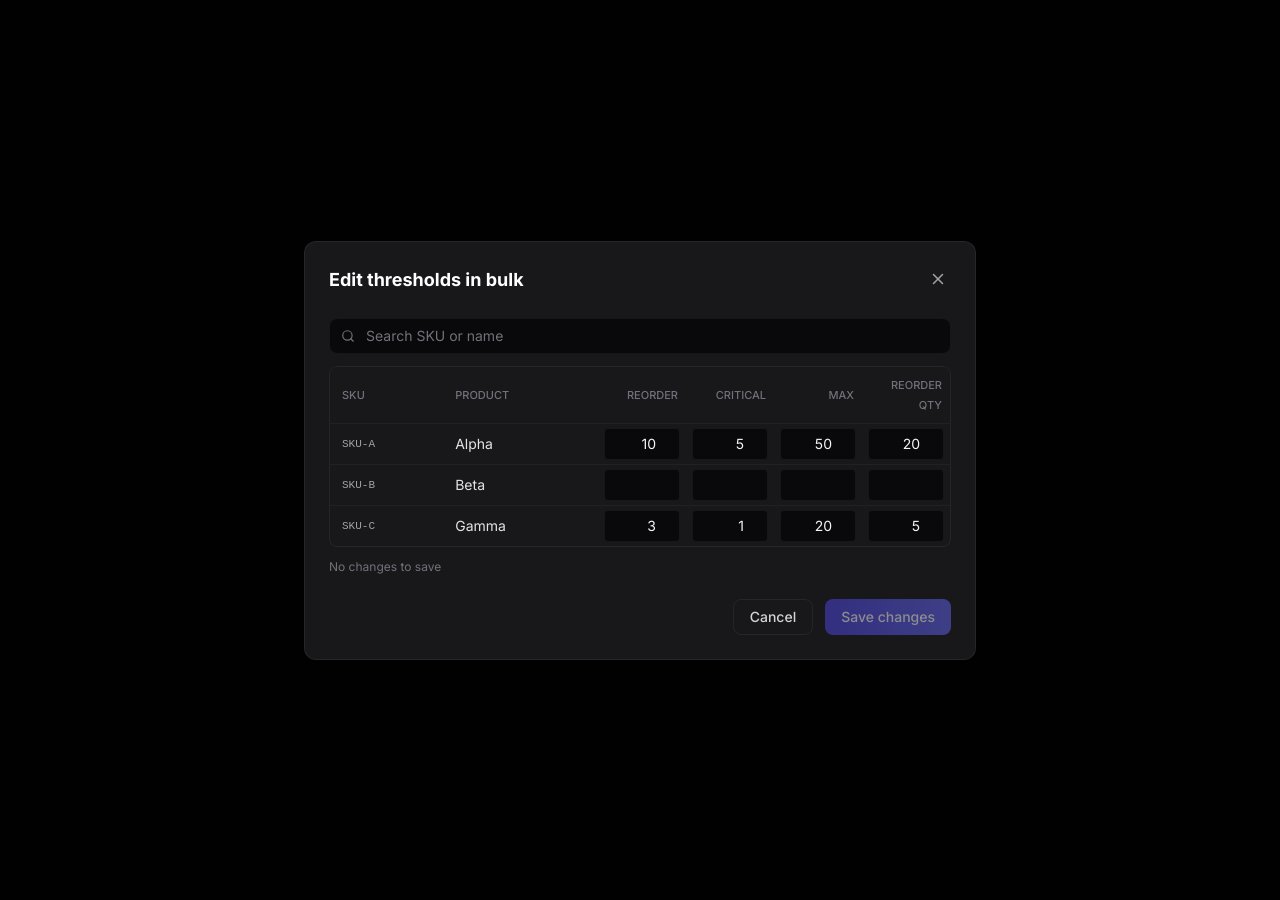
Test: BulkThresholdsModal › shows error toast and does not close on POST failure
Replace the text in the number field with test id "bulk-reorder_threshold-pm-1" with "12": (642, 444) [604,428,680,460]
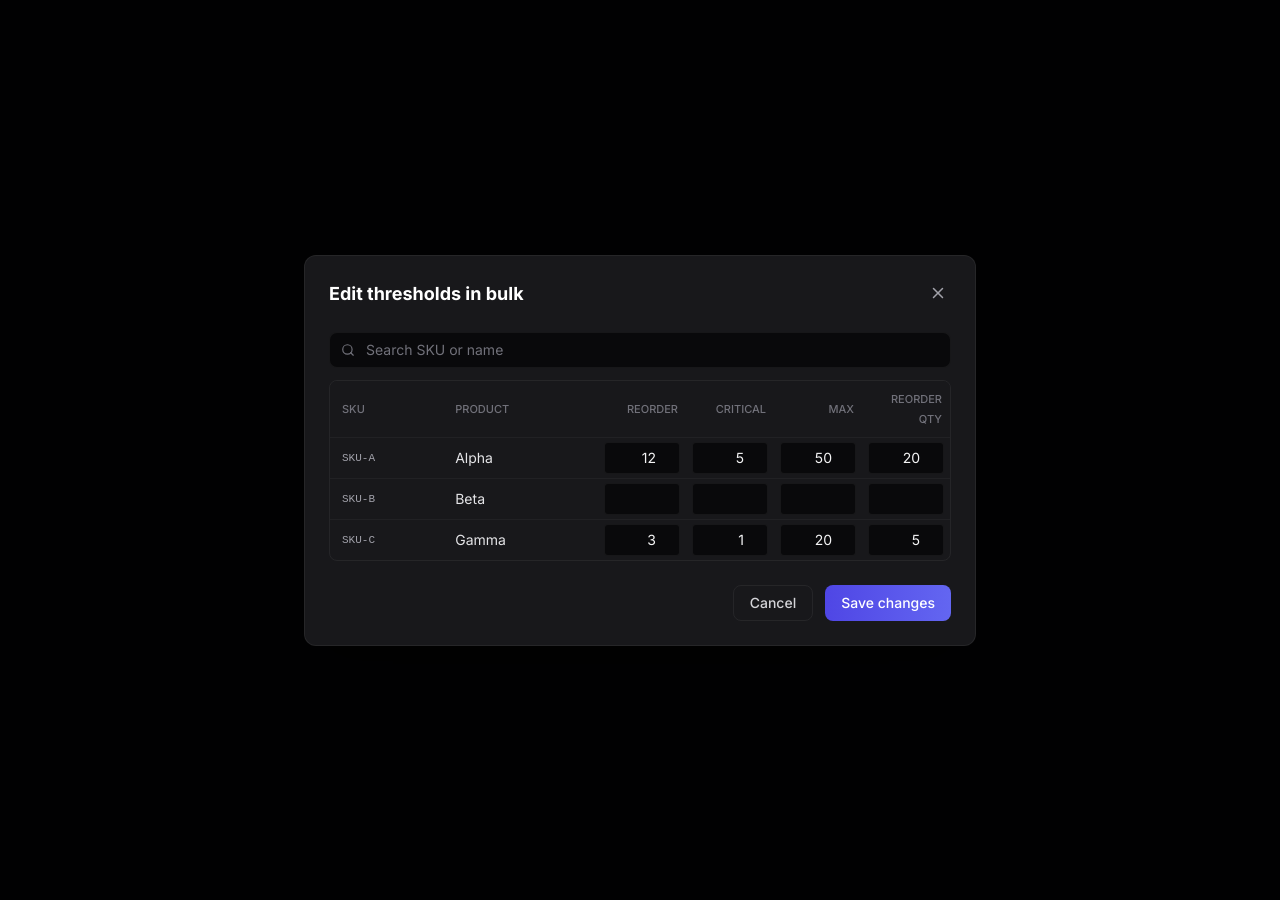
Click the button with test id "bulk-thresholds-save": (888, 602) [825,584,951,620]
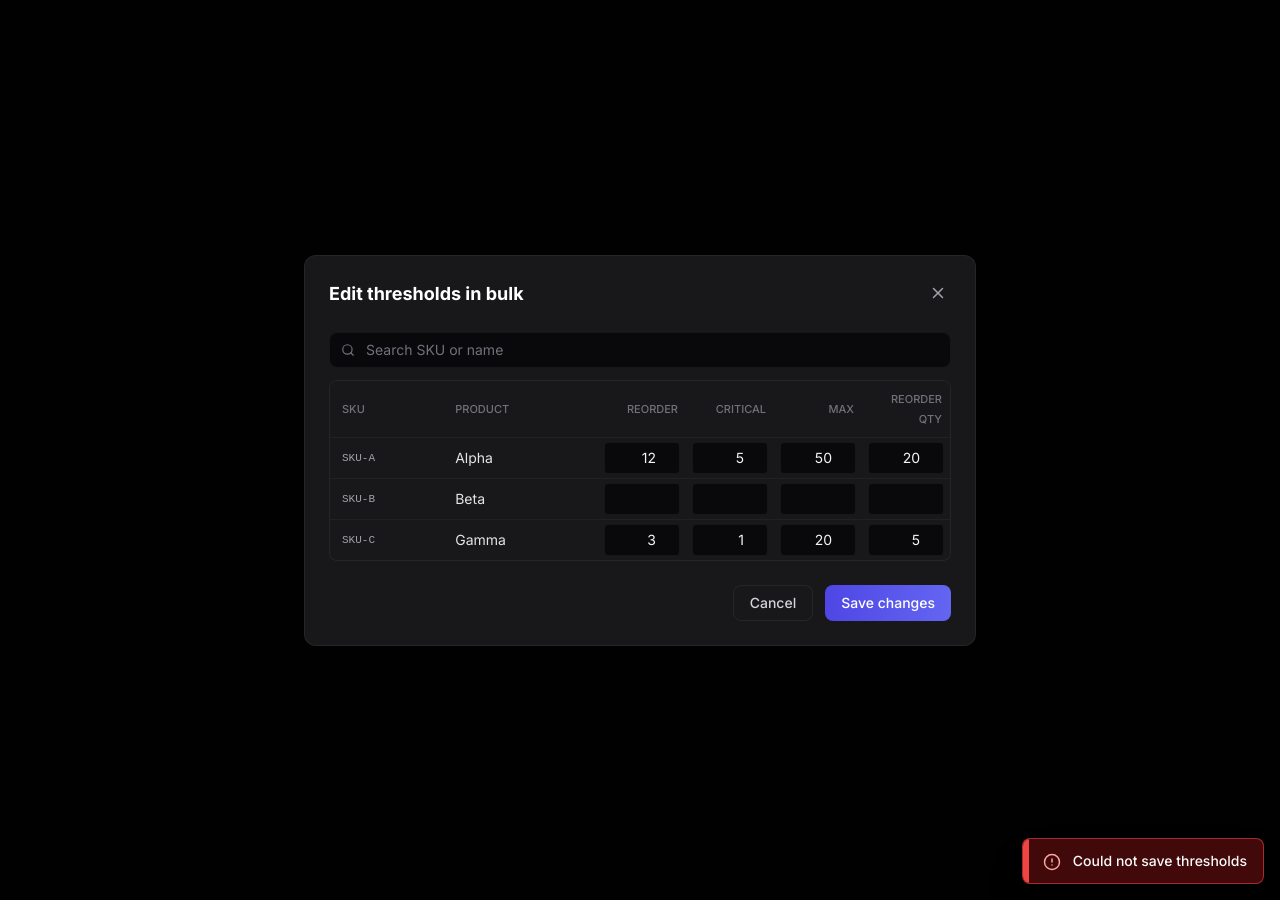
Result: the button with test id "toast" reads "Could not save thresholds" at [1022,838,1264,884]
